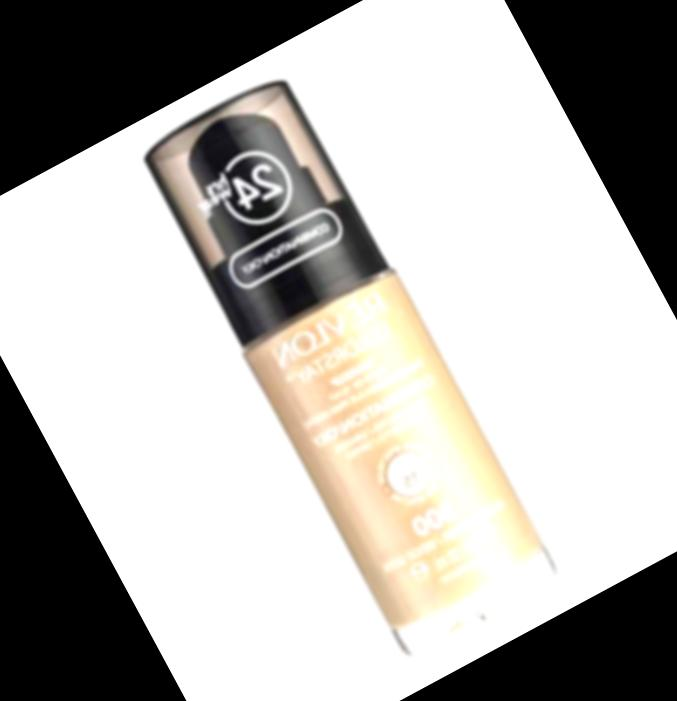cosmetic: (129, 67, 561, 659)
